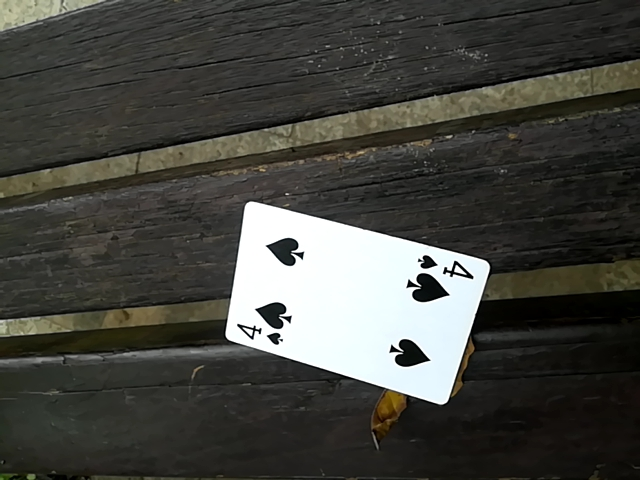ht 4: (206, 193, 486, 412)
